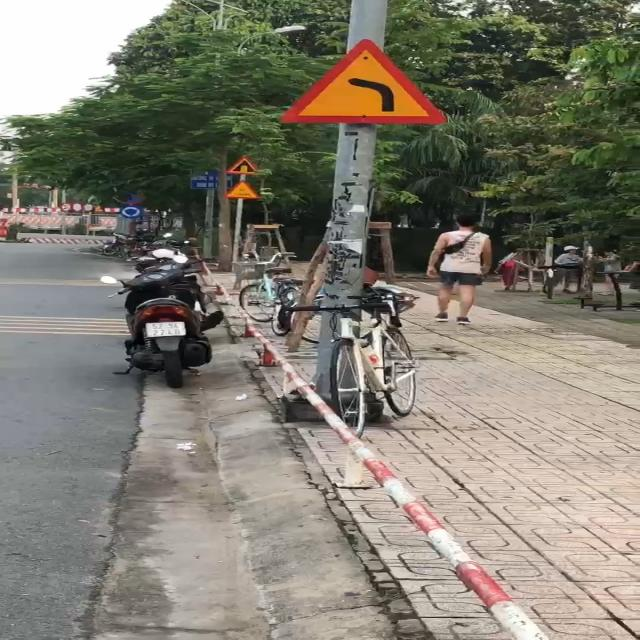Bien bao cho ngoat nguy hiem: (251, 34, 478, 131), (217, 180, 260, 200)
